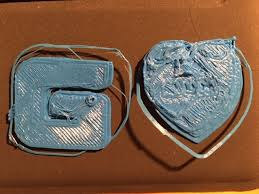fail: (4, 37, 134, 164), (145, 26, 257, 162), (11, 33, 136, 71), (105, 25, 138, 149), (35, 100, 84, 127)
